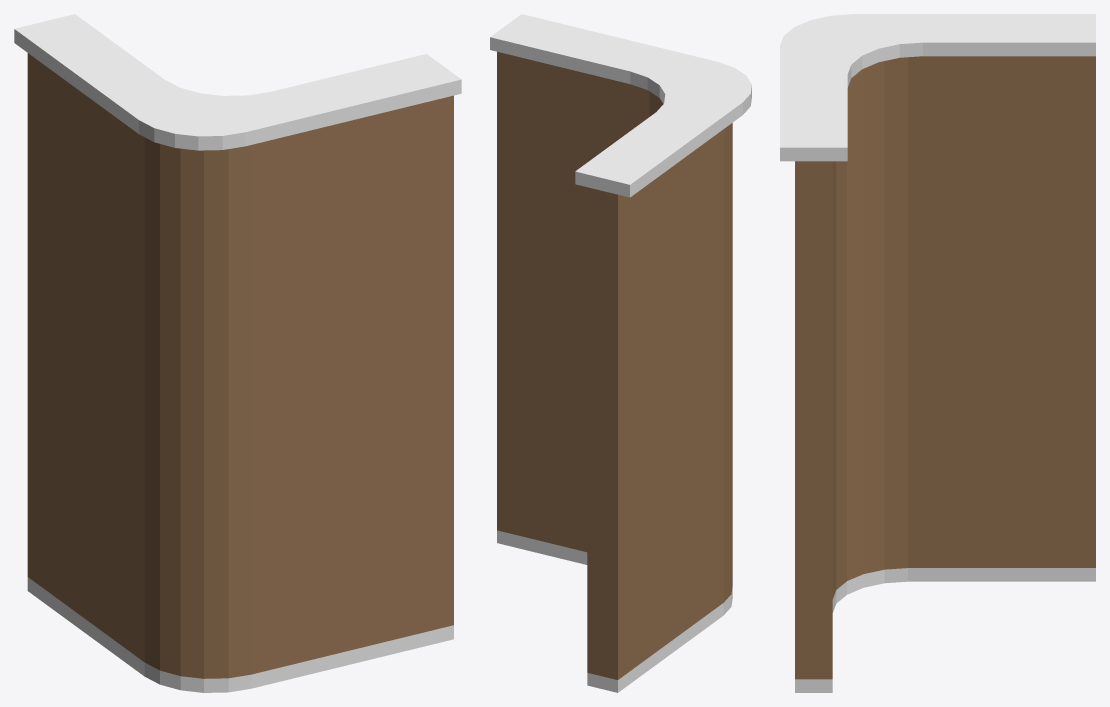
Rendered from SM_4x4m_BasicWall_CurveCorner.fbx.
3 views of the same model, side by side, from view 1: azimuth 30°, elevation 25°; view 2: azimuth 150°, elevation 25°; view 3: azimuth 270°, elevation 25° (orthographic). The views are drawn at different scales.
Parts seen in each view (by area): view 1: SM_4x4m_BasicWall_CurveCorner.001; view 2: SM_4x4m_BasicWall_CurveCorner.001; view 3: SM_4x4m_BasicWall_CurveCorner.001.
Part boxes in pixels (x1,y1,x2,y2): SM_4x4m_BasicWall_CurveCorner.001: (14, 14, 461, 692); SM_4x4m_BasicWall_CurveCorner.001: (490, 14, 751, 692); SM_4x4m_BasicWall_CurveCorner.001: (780, 14, 1095, 692).
Bounding box in the file's own units: 210 × 210 × 400.
